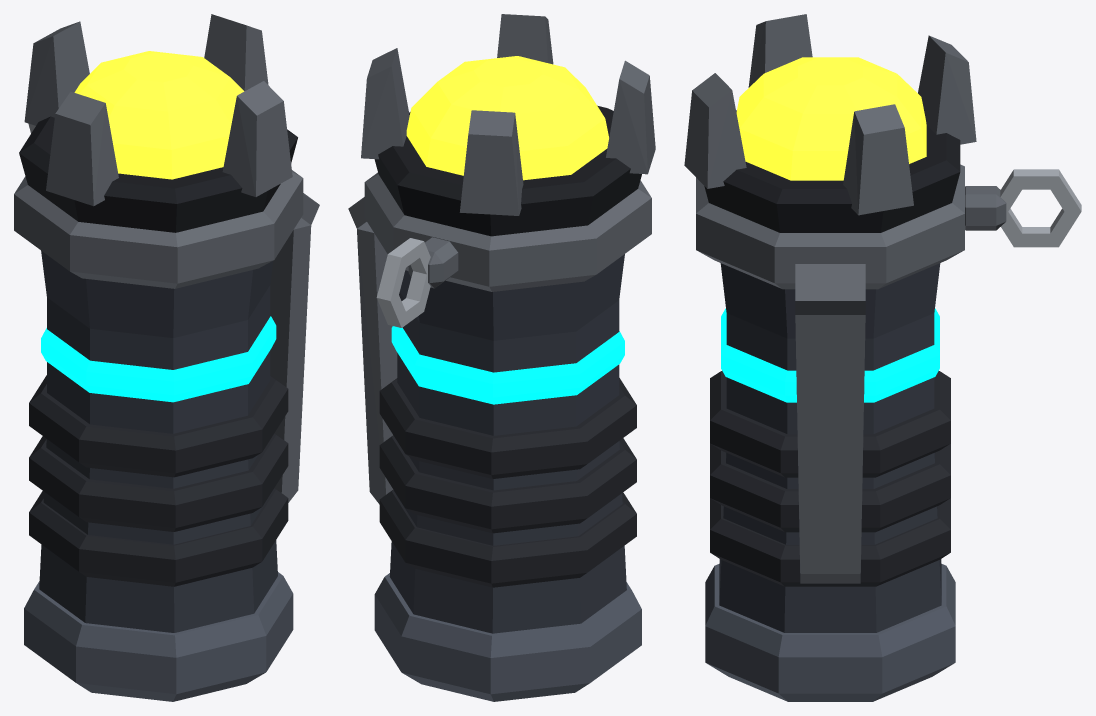
Rendered from Flash.fbx.
The picture shows the model from 3 angles, left to right: view 1: azimuth 30°, elevation 25°; view 2: azimuth 150°, elevation 25°; view 3: azimuth 270°, elevation 25°; orthographic projection.
Parts seen in each view (by area): view 1: Body, Foot, Collar, Lens_Fire, Grip2, Grip1, Grip0, Crown, Band_Energy, Spoon, Tooth2, Tooth3 (+2 smaller); view 2: Body, Foot, Lens_Fire, Collar, Crown, Grip2, Grip1, Grip0, Band_Energy, Spoon, Tooth1, Tooth2 (+4 smaller); view 3: Body, Foot, Spoon, Lens_Fire, Collar, Crown, Grip2, Grip0, Grip1, Tooth0, Band_Energy, Tooth3 (+5 smaller).
Boxes of the visible parts, x1,y1,x2,y2 form: Body: (39,250,277,632); Foot: (24,572,293,701); Collar: (14,170,303,288); Lens_Fire: (74,51,244,179); Grip2: (29,375,288,477); Grip1: (29,433,288,531); Grip0: (29,488,288,586); Crown: (19,116,297,232); Band_Energy: (41,316,276,402); Spoon: (270,218,311,502); Tooth2: (46,91,118,206); Tooth3: (222,81,292,196); Body: (389,254,626,633); Foot: (374,573,641,701); Lens_Fire: (406,56,608,180); Collar: (364,172,651,291); Crown: (374,105,641,236); Grip2: (379,378,636,478); Grip1: (379,435,636,533); Grip0: (379,489,636,587); Band_Energy: (391,326,624,404); Spoon: (357,222,397,504); Tooth1: (459,110,523,215); Tooth2: (606,60,655,174); Body: (719,263,941,632); Foot: (705,563,955,701); Spoon: (795,315,865,583); Lens_Fire: (736,57,926,180); Collar: (696,164,964,289); Crown: (704,110,960,232); Grip2: (710,371,950,477); Grip0: (710,498,950,586); Grip1: (710,443,950,532); Tooth0: (843,104,913,215); Band_Energy: (721,308,939,402); Tooth3: (684,73,746,188).
Bounding box in the file's own units: 0.3104 × 0.655 × 0.3954.
